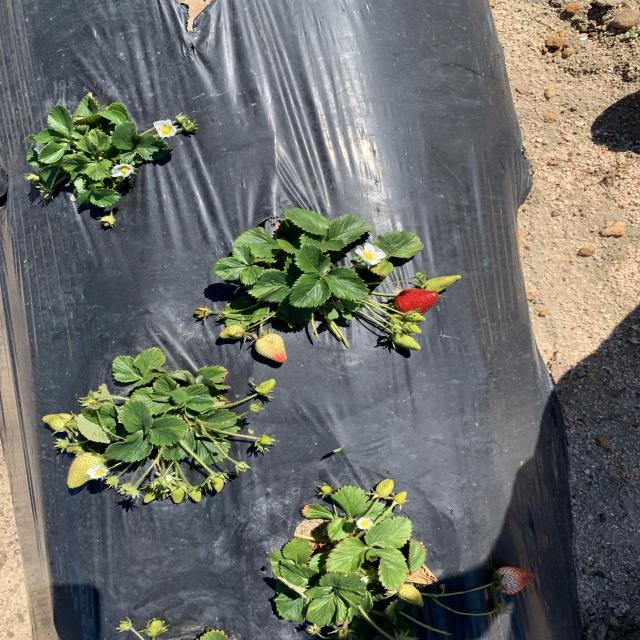unripe: (396, 286, 438, 315), (495, 566, 535, 593)
